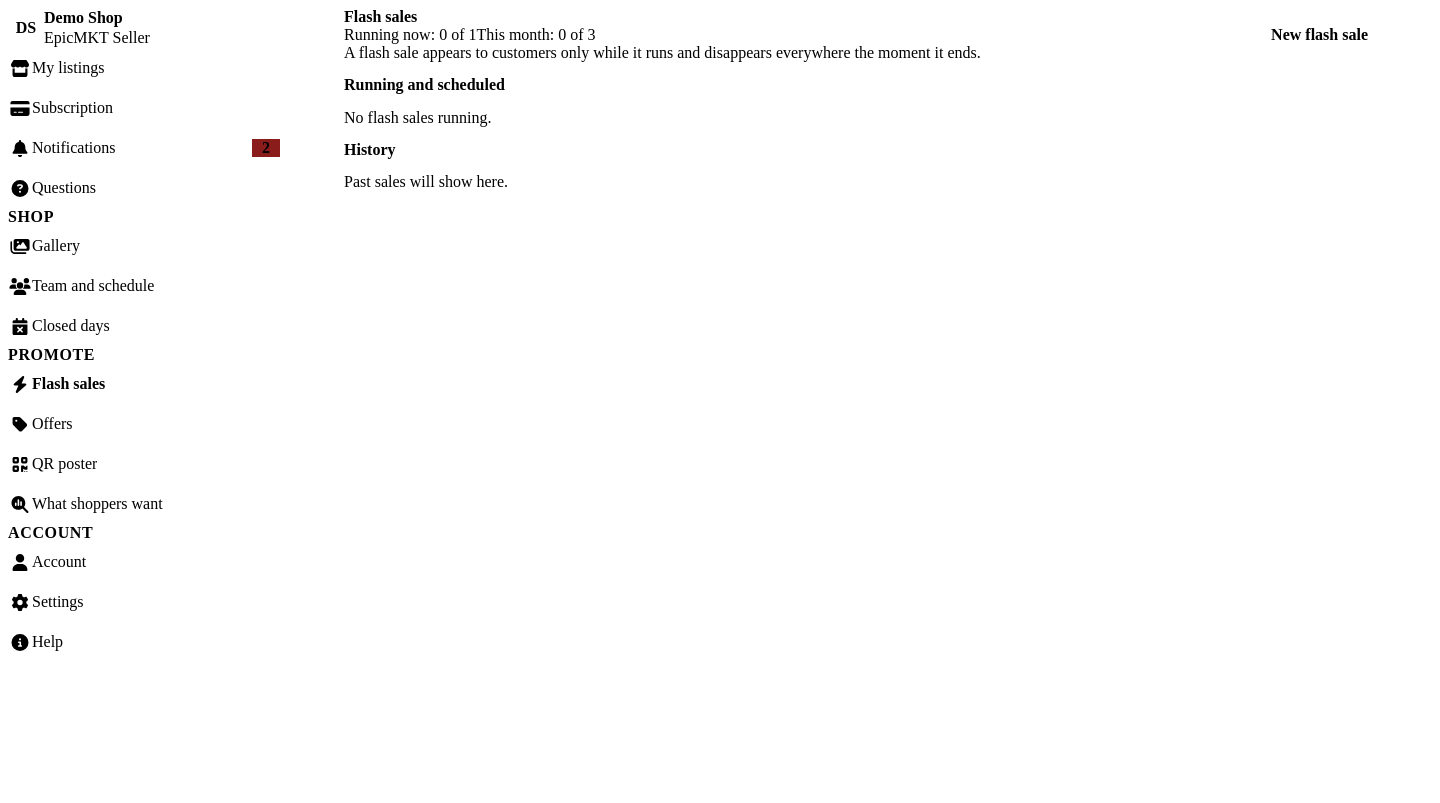
Test: flash sale per option (seller) › an item without options keeps the single price form
Click the button "New flash sale": (1320, 35) [1271,26,1368,44]
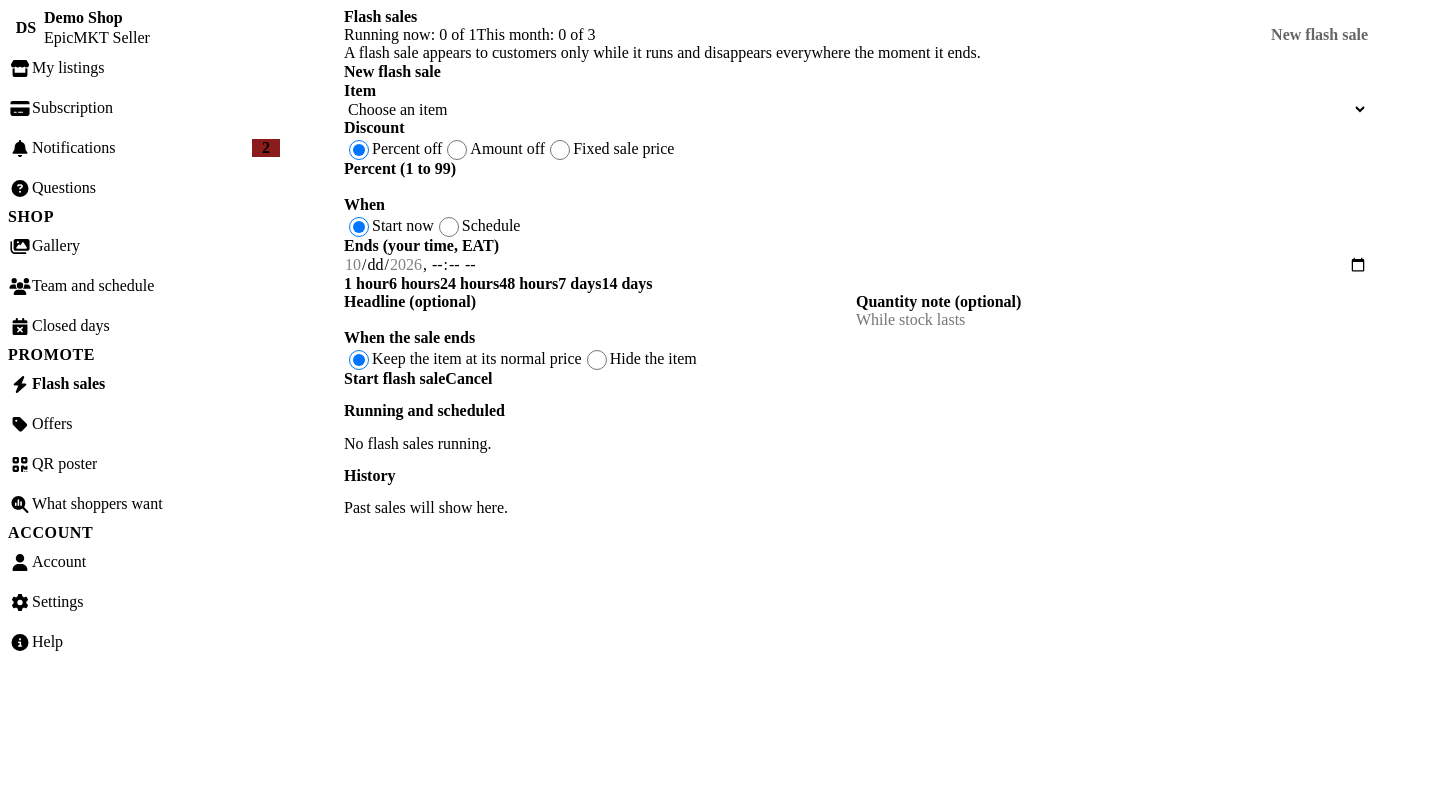
Select "Fade cut (KES 500)" in the dropdown labelled "Item": (856, 110) [344,100,1368,119]
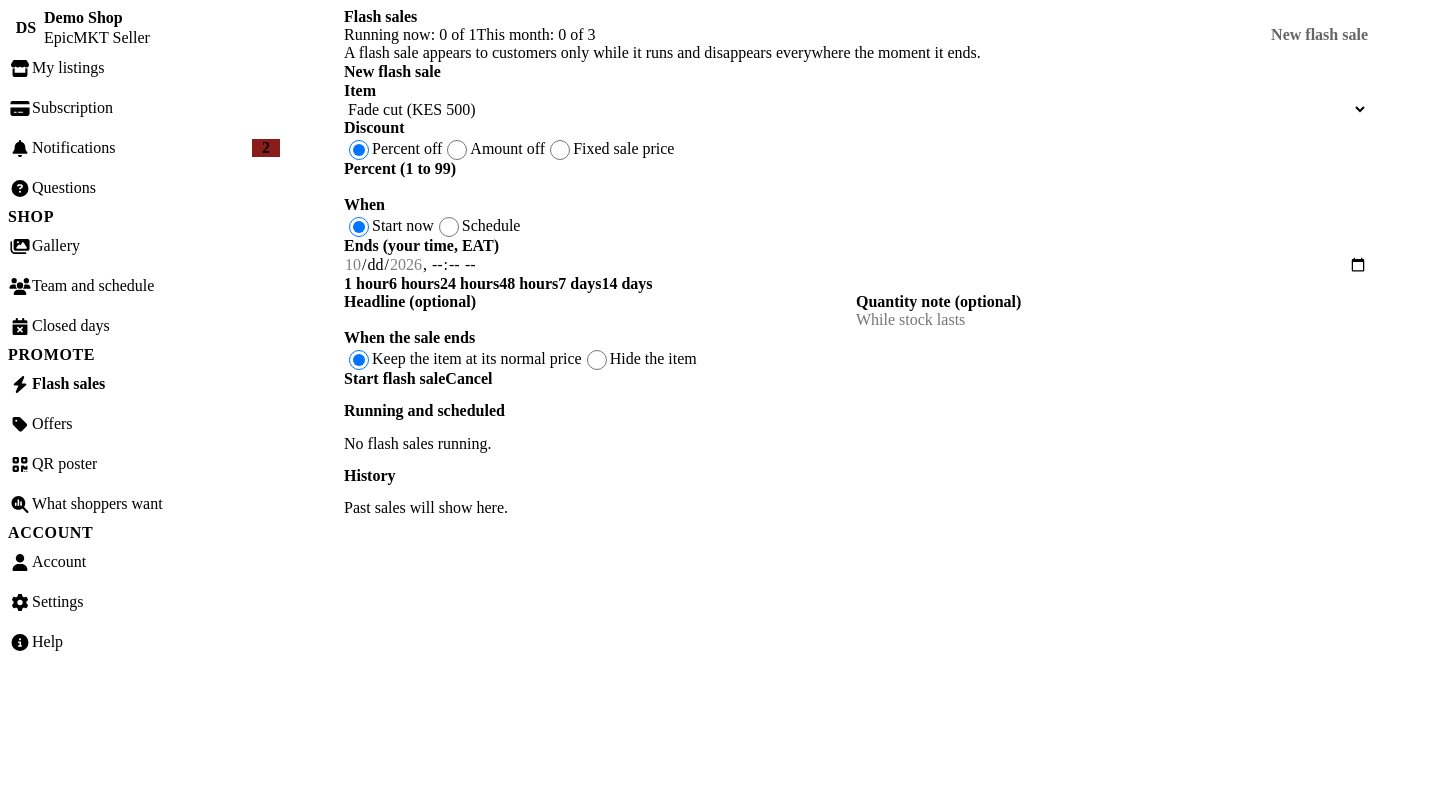
In the number field labelled "Percent (1 to 99)": (856, 187) [344,178,1368,196], type "10"
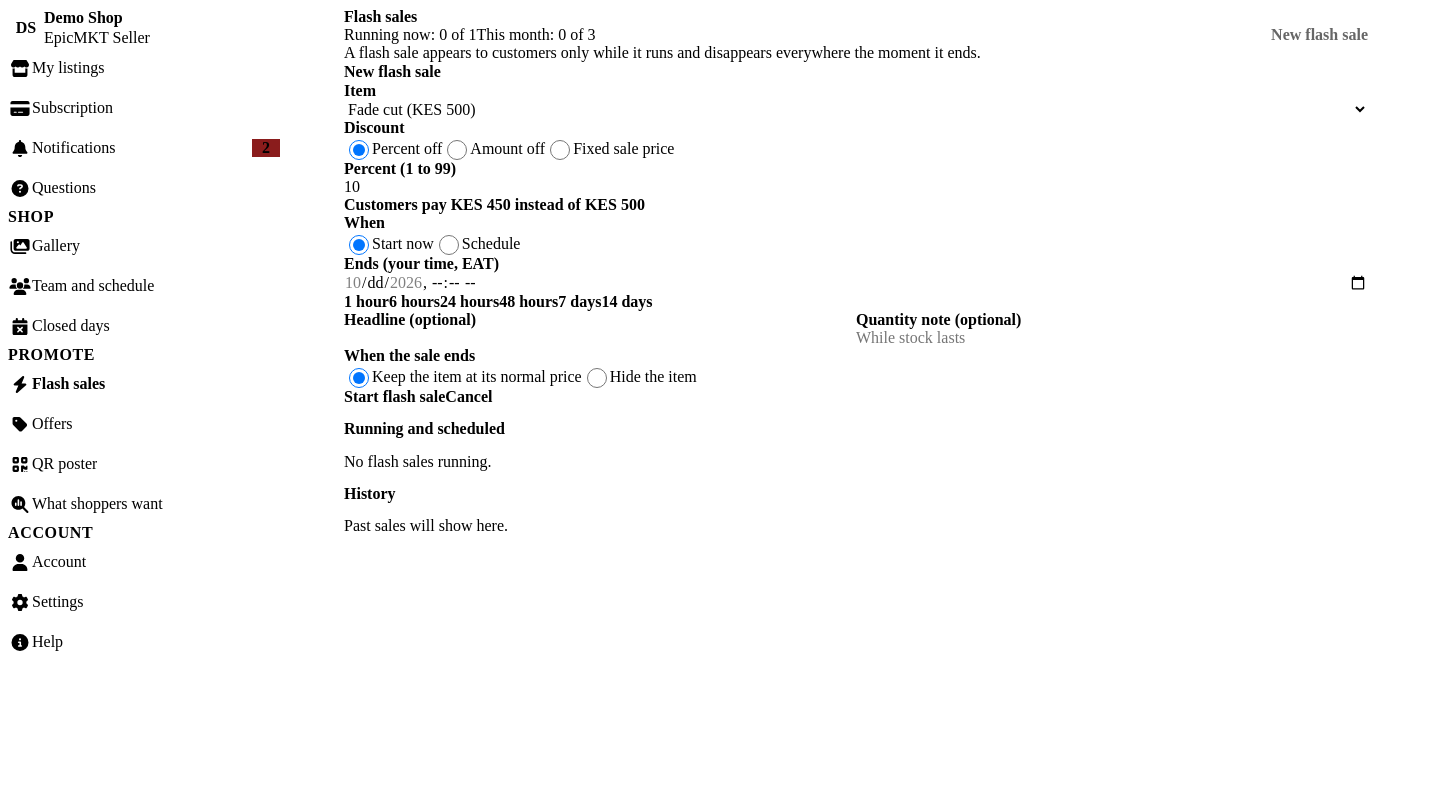
Check: the text with test id "fs-preview" reads "Customers pay KES 450 instead of KES 500", box [344,196,645,213]
